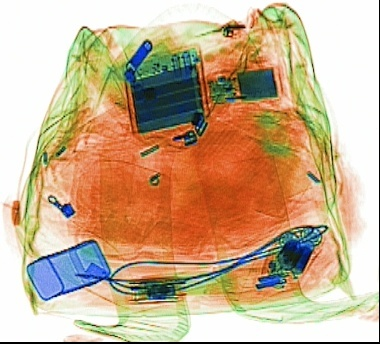powerbank: (117, 42, 211, 138)
